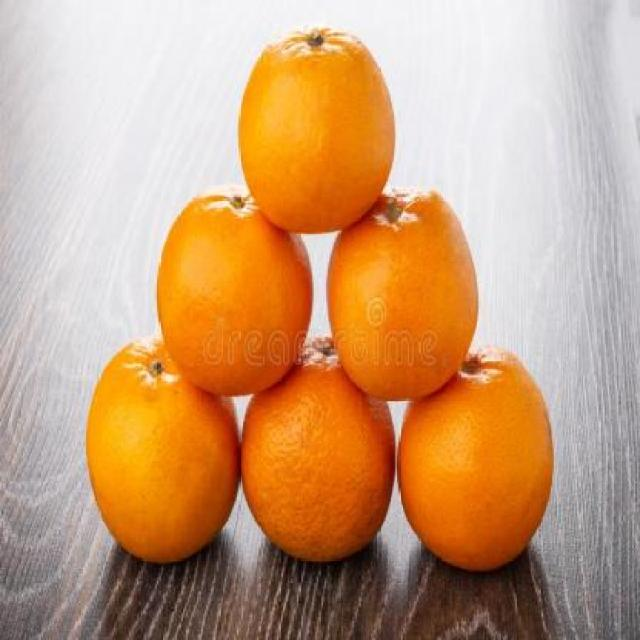Orange: (395, 345, 554, 572), (83, 334, 239, 563), (238, 345, 396, 563), (236, 23, 396, 234), (154, 183, 312, 395), (324, 186, 478, 400)
